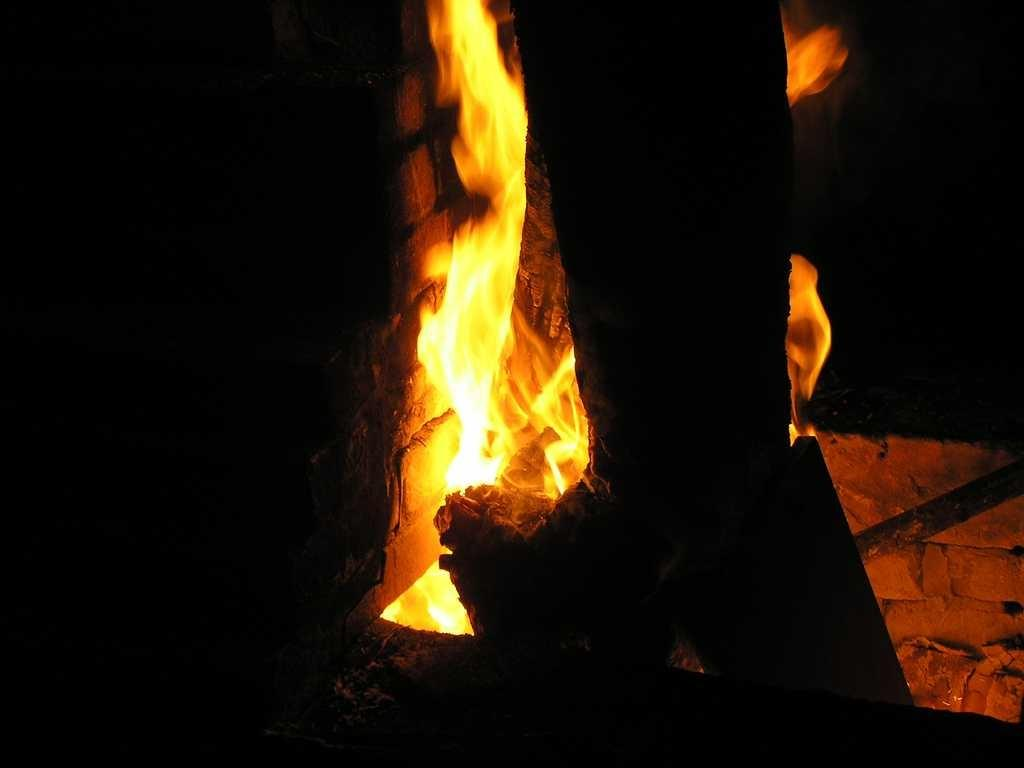fire: (426, 85, 528, 465), (794, 256, 831, 414)
